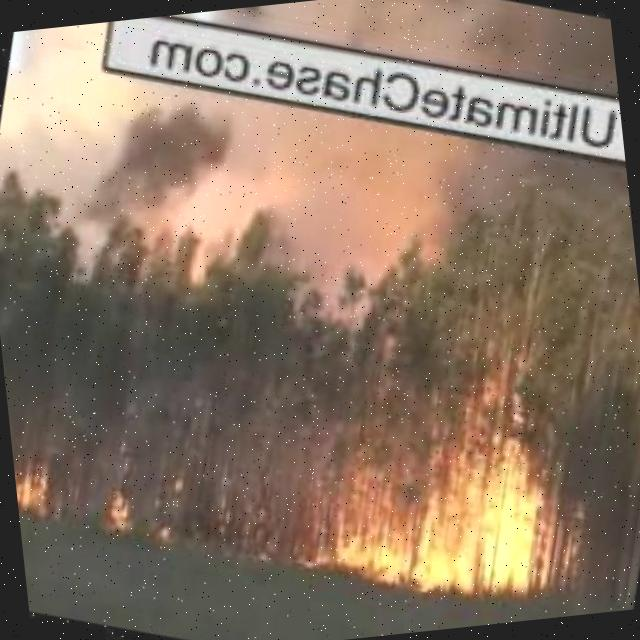fire: (298, 407, 567, 629), (98, 494, 146, 548), (14, 465, 56, 523)
